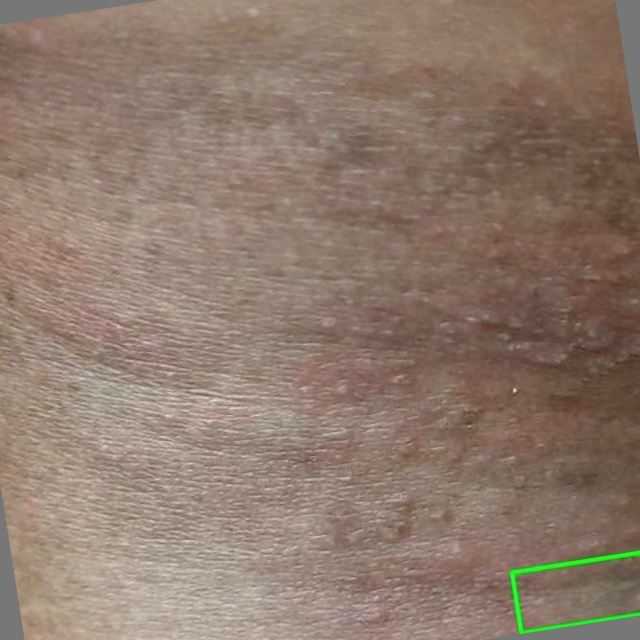Tinea Corporis: (511, 552, 639, 632)
